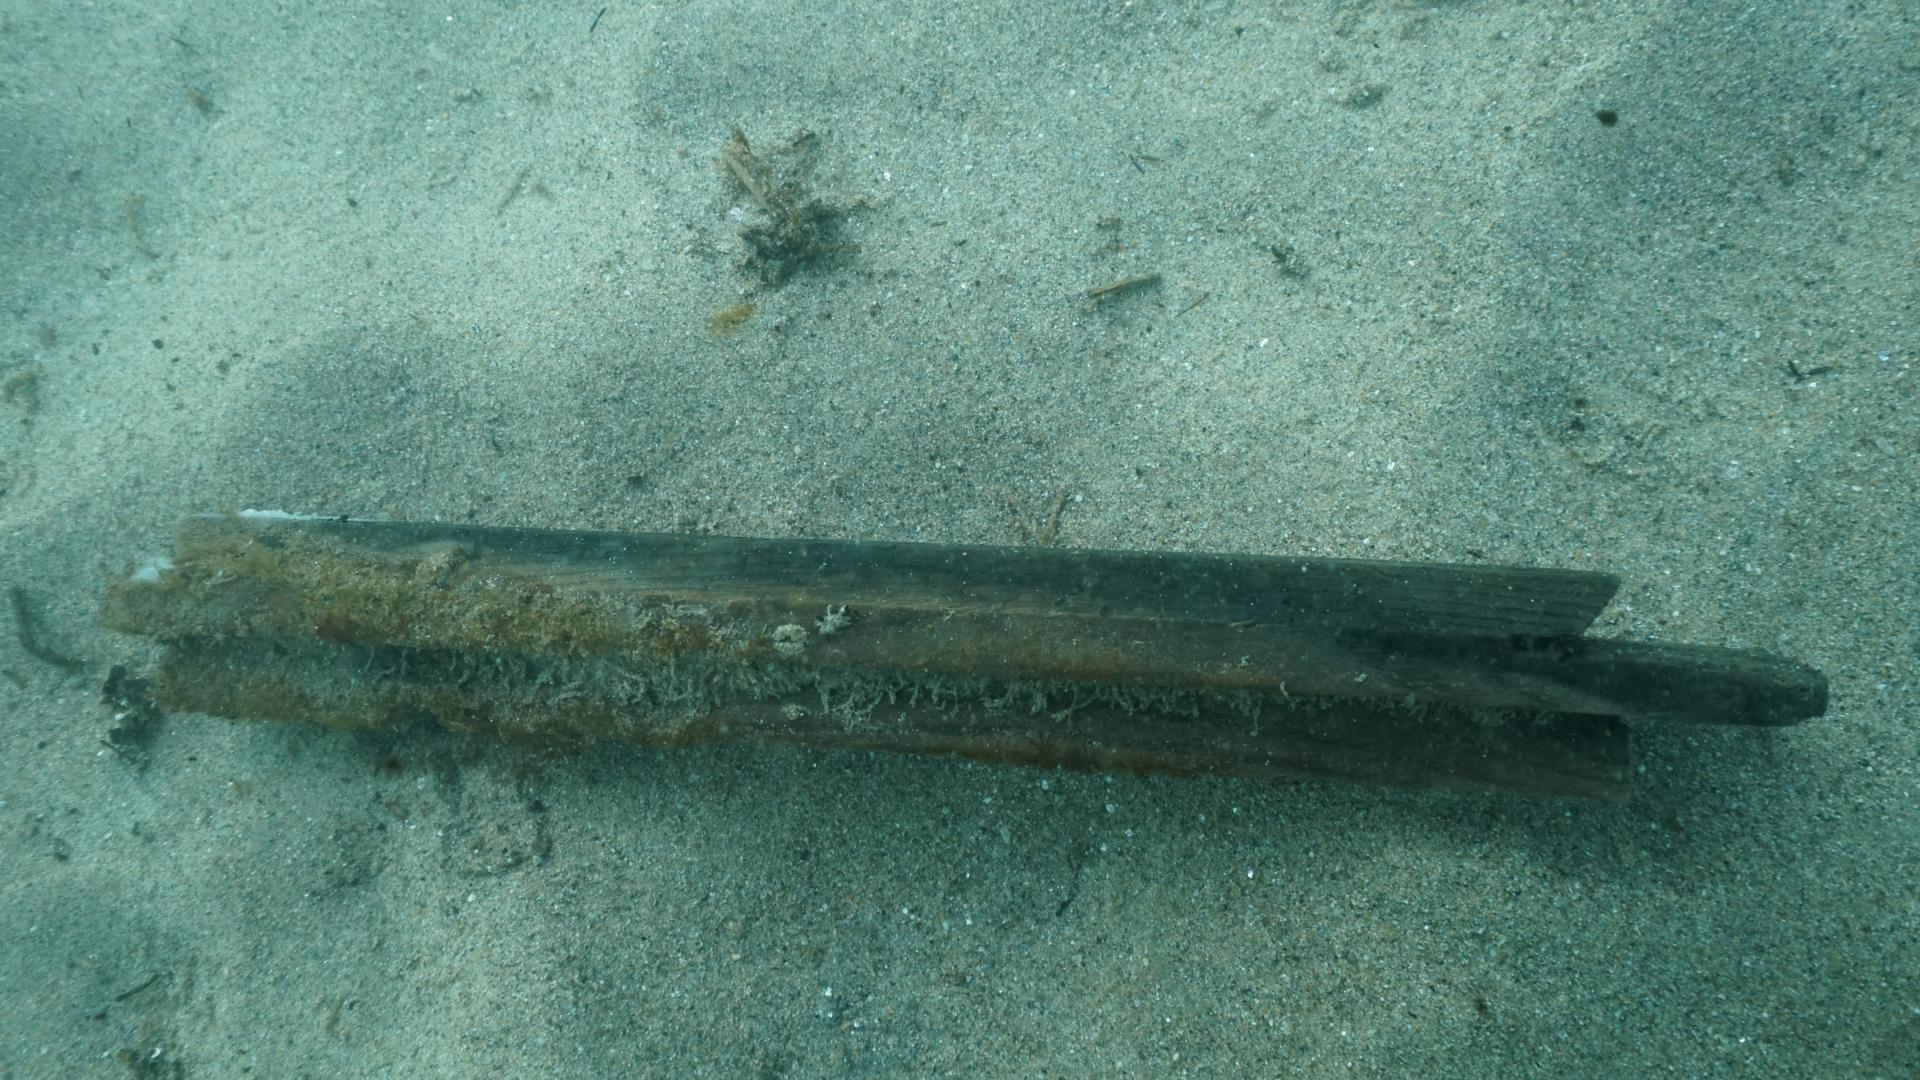wood: (98, 512, 1832, 804)
